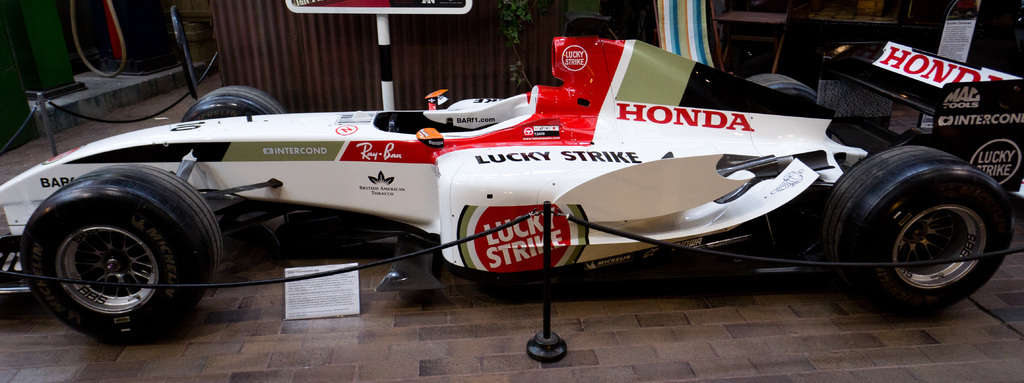Car: (0, 35, 1023, 346)
